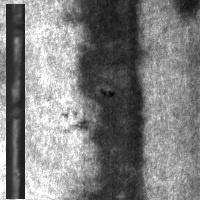patches: (77, 1, 146, 199), (172, 1, 200, 18)
scratches: (6, 4, 25, 199)
